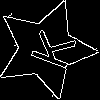K: (21, 24, 77, 71)
